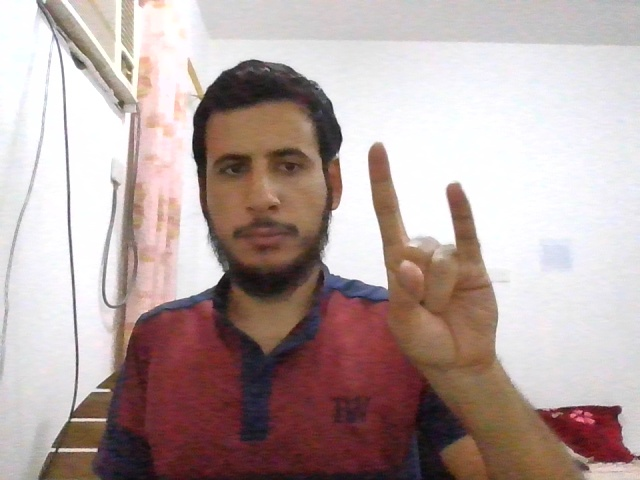Two: (367, 141, 499, 368)
